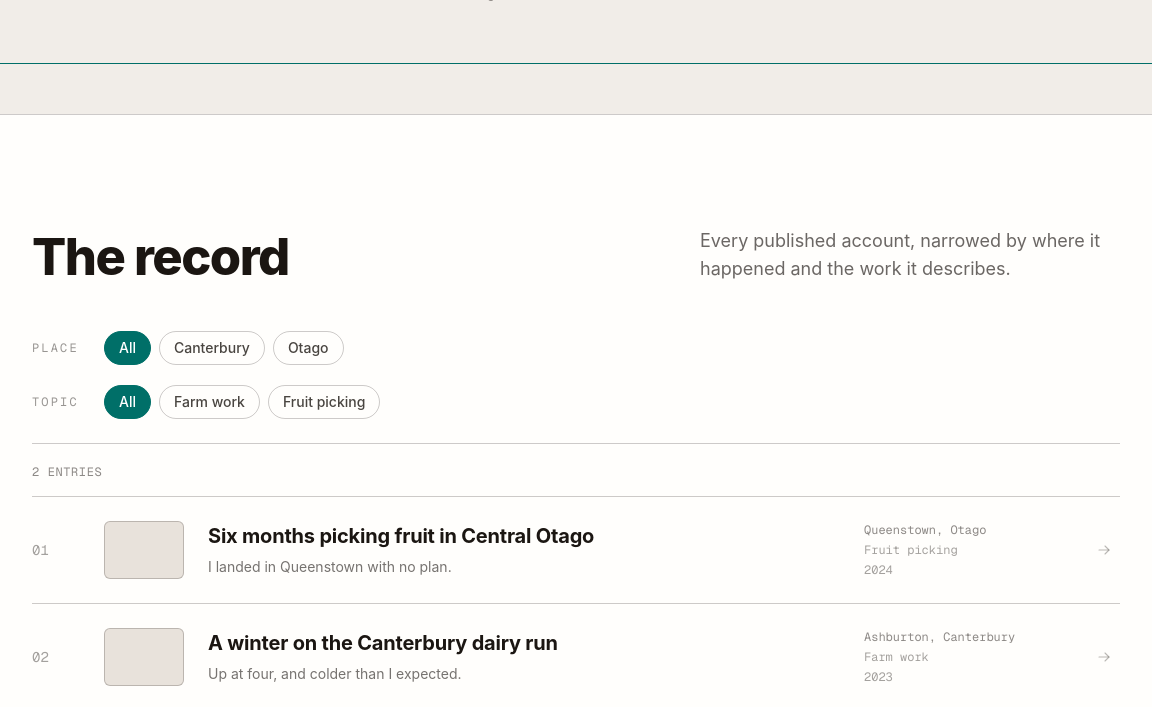
Test: HomePage › narrows the index to the chosen filter
The width and height of the screenshot is (1152, 707).
(page scrolled)
Expected: the text "2 ENTRIES" is shown, [32,464,102,480]
Step 1. Click the button "Canterbury" → (212, 348), box [159,331,265,365]
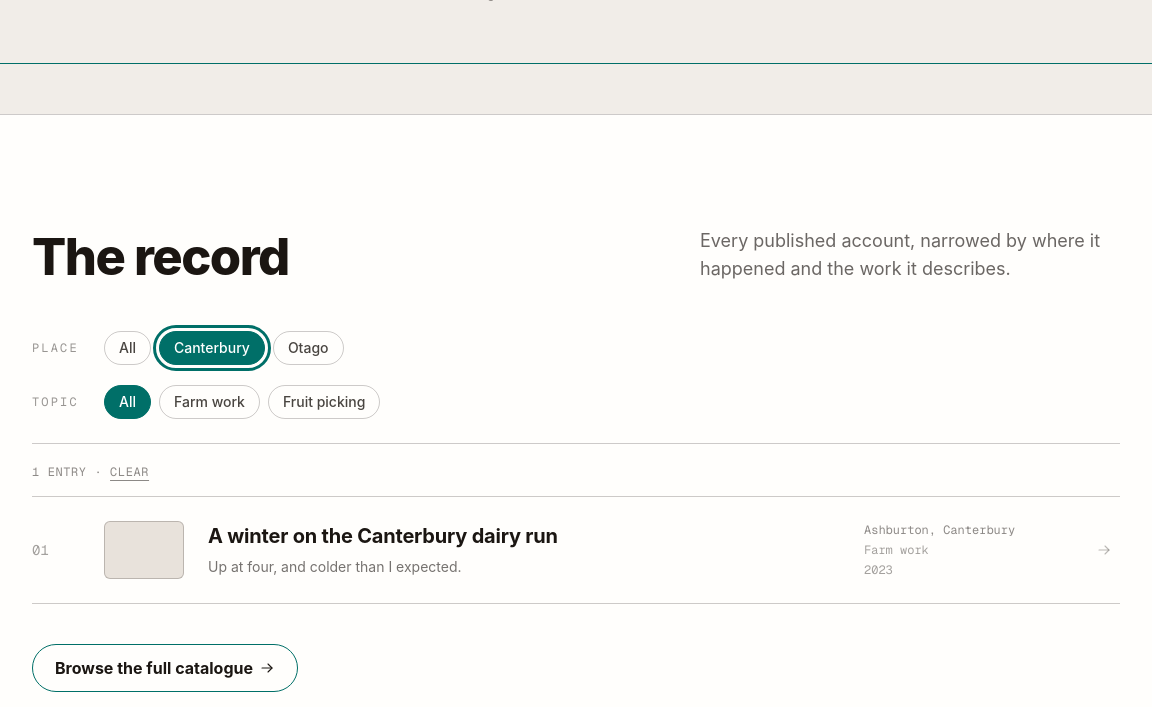
Expected: the link named "A winter on the Canterbury dairy run" is shown, [32,521,1112,579]
Expected: the text "1 ENTRY · CLEAR" is shown, [32,464,149,480]
